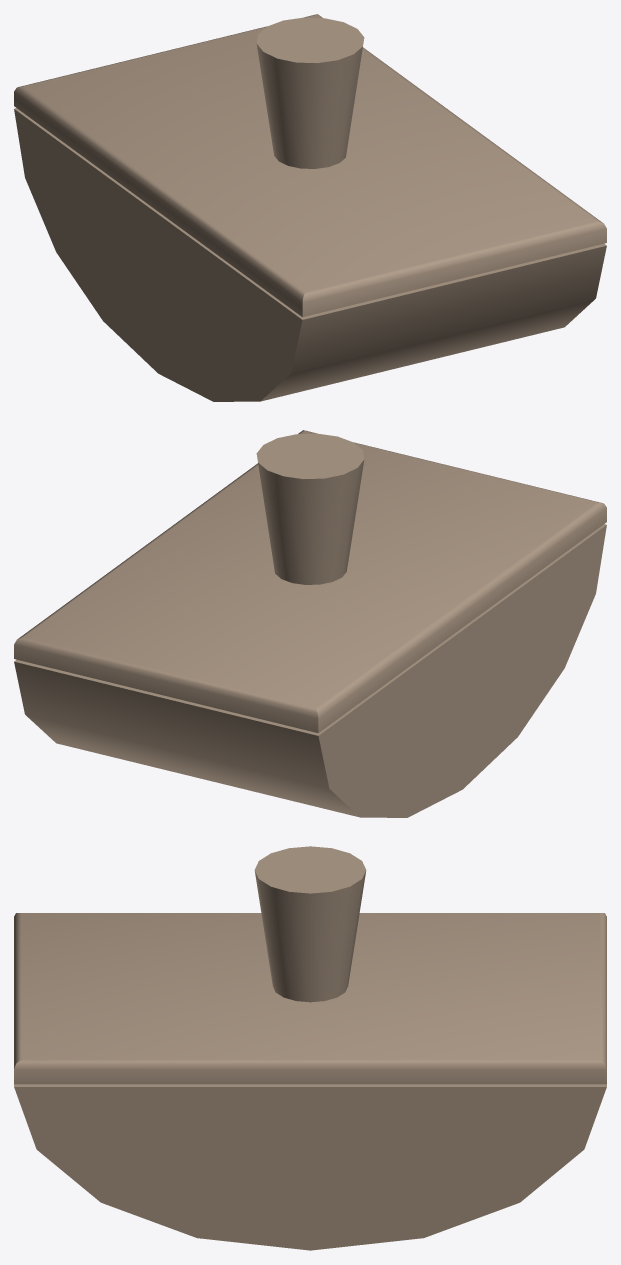
The model's file is mdl_blotter.fbx.
3 renders of one model, top to bottom at view 1: azimuth 30°, elevation 25°; view 2: azimuth 150°, elevation 25°; view 3: azimuth 270°, elevation 25°, orthographic. The views are drawn at different scales.
Parts seen in each view (by area): view 1: mdl_blotter; view 2: mdl_blotter; view 3: mdl_blotter.
Part boxes in pixels (left/top/right/bottom): mdl_blotter: left=14, top=14, right=606, bottom=401; mdl_blotter: left=14, top=430, right=606, bottom=817; mdl_blotter: left=14, top=846, right=606, bottom=1250.
Bounding box in the file's own units: 7.58 × 7.04 × 12.44.
